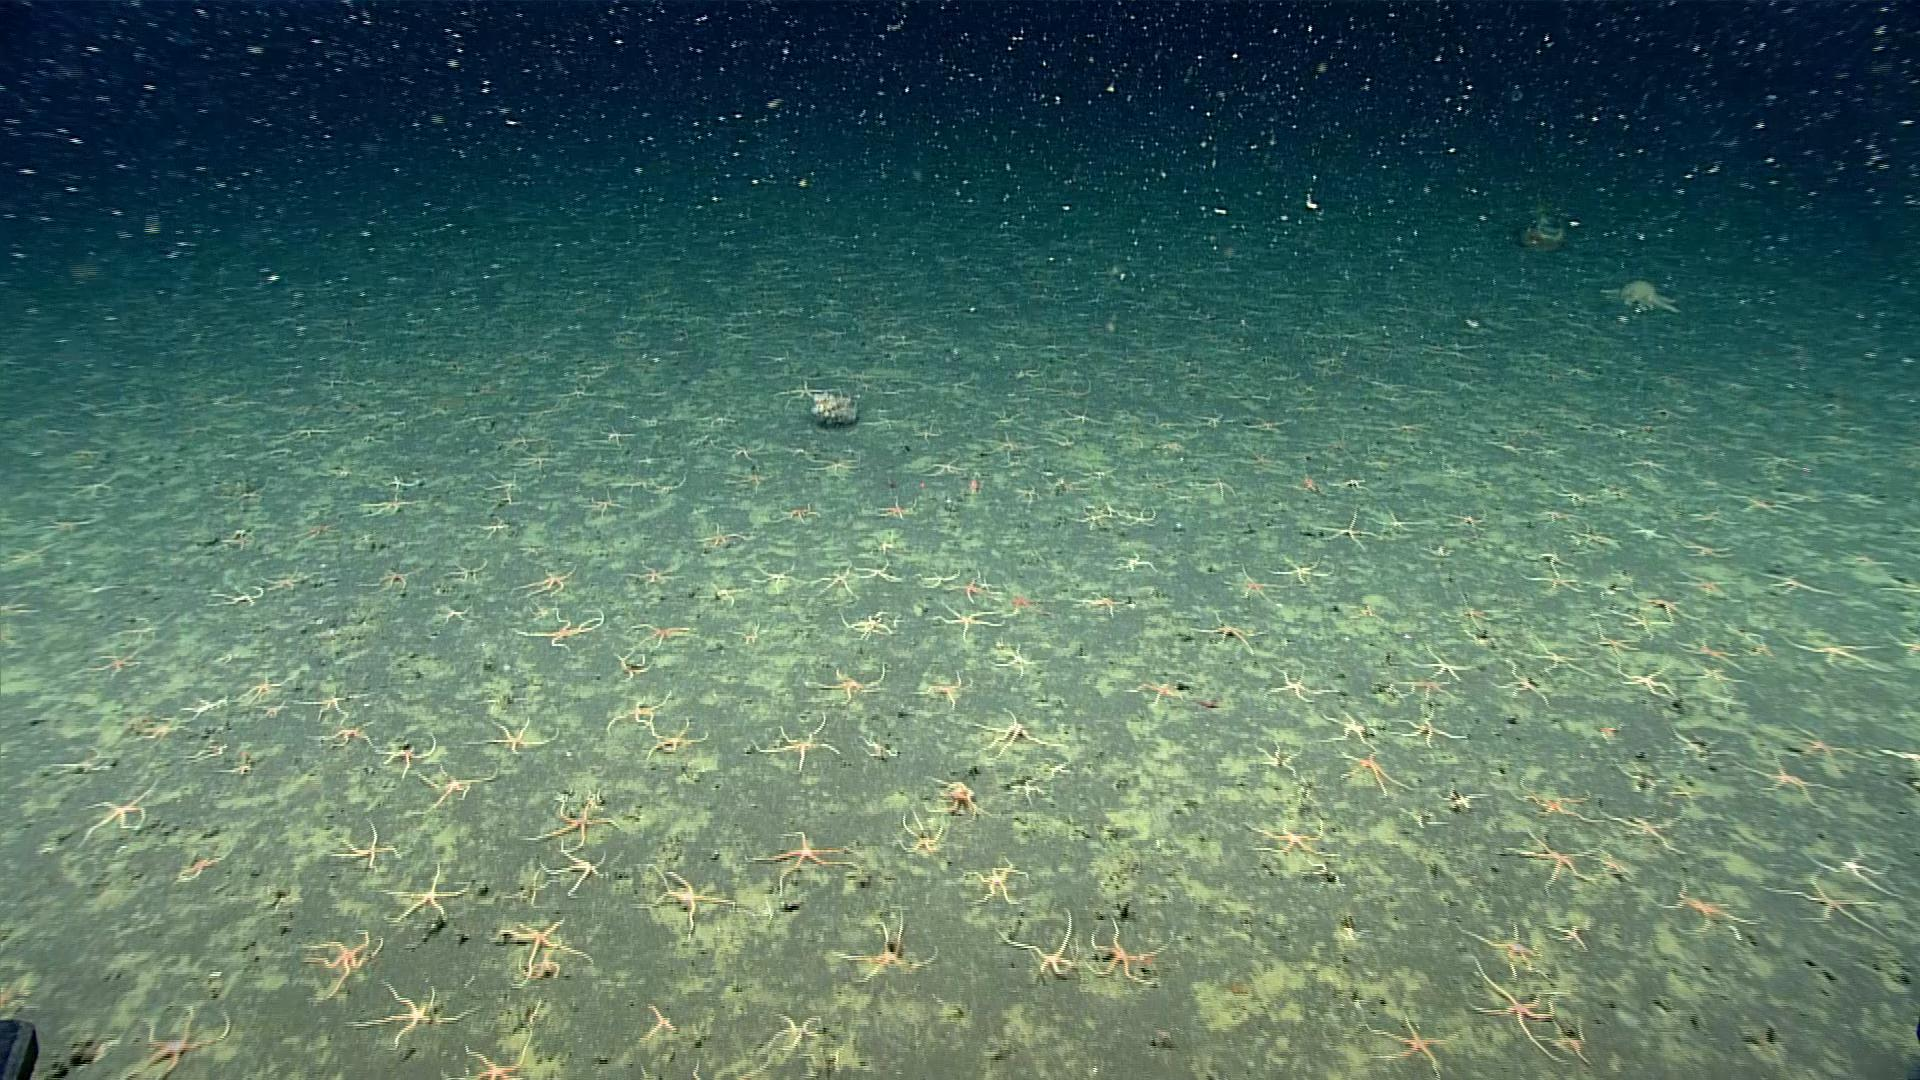brittle_sea_star: (1461, 952, 1572, 1063), (345, 976, 479, 1055), (825, 914, 944, 986), (120, 1006, 231, 1079), (634, 862, 738, 934), (746, 828, 860, 891), (1783, 872, 1896, 935), (492, 916, 591, 989), (293, 924, 384, 1001), (71, 779, 164, 851), (1365, 1009, 1458, 1079), (1084, 914, 1172, 988), (1644, 874, 1746, 938), (1458, 918, 1555, 978), (377, 865, 473, 926), (1506, 832, 1604, 891), (518, 790, 615, 849), (1803, 837, 1899, 897), (996, 907, 1075, 978), (1739, 748, 1832, 806), (405, 765, 504, 816), (513, 605, 616, 654), (436, 1031, 542, 1079), (472, 709, 563, 764), (539, 837, 611, 903), (808, 658, 890, 715), (1780, 628, 1886, 671), (757, 716, 841, 770), (1602, 806, 1691, 856), (1515, 633, 1602, 682), (965, 711, 1048, 758), (757, 1007, 837, 1056), (1505, 777, 1588, 823), (332, 818, 397, 876), (640, 716, 713, 765), (959, 856, 1030, 906), (1382, 708, 1462, 750), (601, 691, 673, 738), (1250, 812, 1325, 857), (1333, 742, 1402, 791), (930, 596, 1014, 636), (1313, 505, 1381, 553), (1407, 644, 1482, 686), (1258, 665, 1332, 707), (293, 683, 367, 724), (1191, 615, 1265, 655), (1520, 558, 1592, 599), (306, 716, 382, 753), (173, 844, 235, 889), (1753, 567, 1832, 601), (377, 735, 440, 775), (1226, 564, 1287, 605), (897, 810, 948, 857), (84, 644, 148, 682), (357, 484, 425, 520), (1, 700, 69, 736), (1491, 659, 1545, 703), (621, 618, 698, 649), (1615, 662, 1679, 698), (1585, 624, 1643, 661), (1273, 555, 1338, 587), (913, 670, 967, 708), (935, 775, 985, 816), (133, 711, 190, 746), (1445, 595, 1503, 629), (807, 562, 857, 601), (513, 566, 575, 597), (1614, 605, 1676, 637), (1685, 661, 1750, 691), (746, 559, 800, 595), (1129, 678, 1195, 707), (1673, 574, 1739, 603), (1323, 711, 1378, 745), (237, 671, 293, 705), (181, 690, 237, 723), (361, 563, 421, 593), (622, 558, 682, 588), (840, 611, 905, 638), (988, 641, 1040, 674), (444, 555, 497, 587), (479, 469, 525, 505), (613, 644, 654, 683), (207, 582, 265, 609), (431, 597, 481, 629), (638, 1004, 678, 1042), (181, 735, 229, 765), (211, 758, 265, 785), (1072, 591, 1126, 617), (688, 524, 744, 549), (1884, 567, 1919, 605), (855, 558, 901, 584), (876, 492, 919, 520), (258, 570, 309, 593), (579, 491, 626, 516), (1706, 690, 1751, 715), (1572, 529, 1622, 551), (297, 520, 348, 541), (257, 698, 293, 728), (1114, 550, 1156, 575), (1071, 506, 1113, 531), (955, 580, 996, 605), (1118, 505, 1159, 530), (781, 501, 819, 526), (1887, 629, 1919, 658), (1445, 509, 1484, 533), (919, 572, 956, 592), (1015, 483, 1044, 508)
